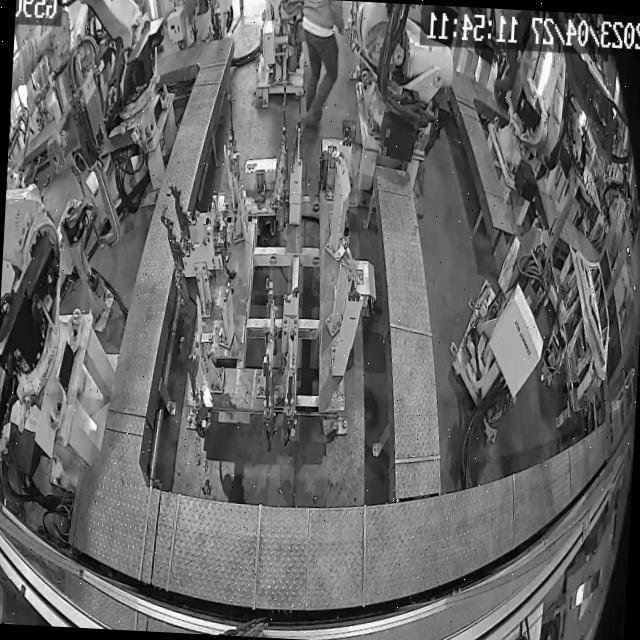Person: (294, 0, 346, 129), (493, 9, 534, 112), (176, 336, 202, 398), (350, 285, 362, 302)
